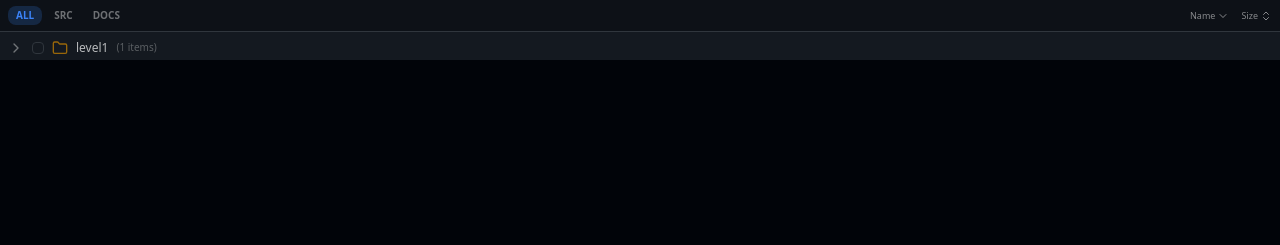
Scenario: FileTree Hierarchy › Hierarchical ordering › should handle deep nesting (5+ levels)
The width and height of the screenshot is (1280, 245).
Click the button with test id "expand-icon": (16, 48) [6,38,26,58]
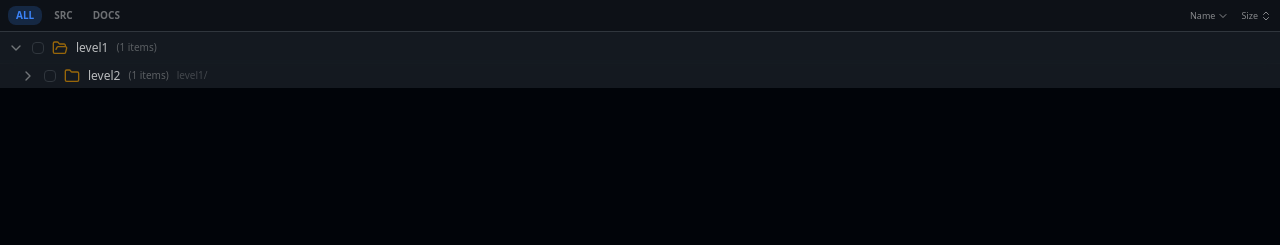
Click the 2nd button with test id "expand-icon": (28, 76) [18,66,38,86]
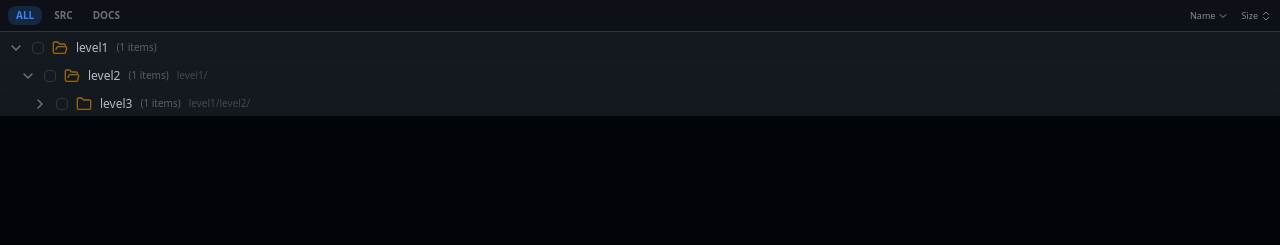
Click the 3rd button with test id "expand-icon": (40, 104) [30,94,50,114]
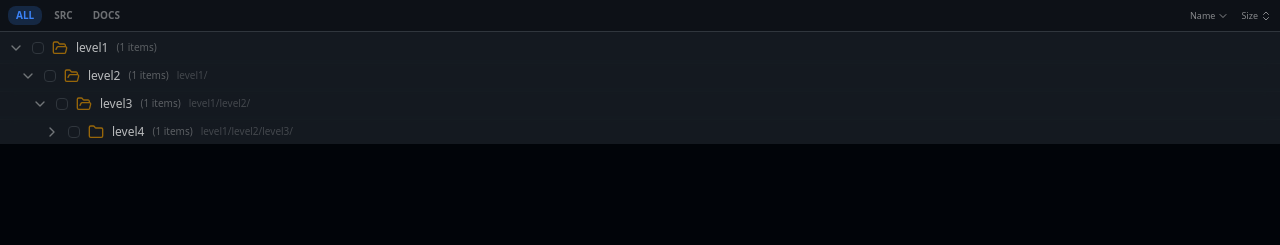
Click the 4th button with test id "expand-icon": (52, 132) [42,122,62,142]
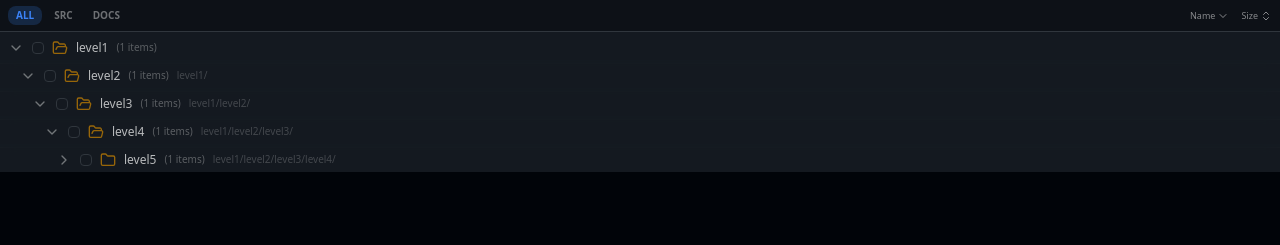
Click the 5th button with test id "expand-icon": (64, 160) [54,150,74,170]
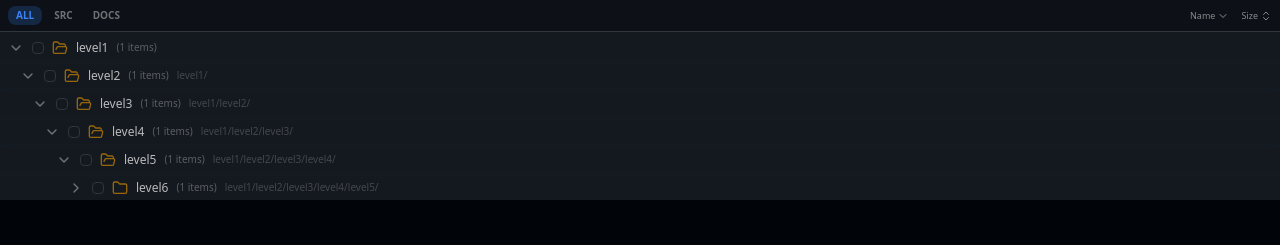
Click the 6th button with test id "expand-icon": (76, 188) [66,178,86,198]
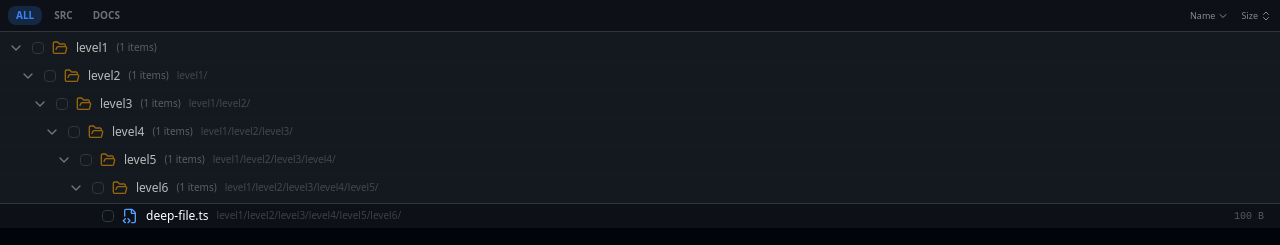
Check: the text "deep-file.ts" is shown, box [146,206,208,224]
